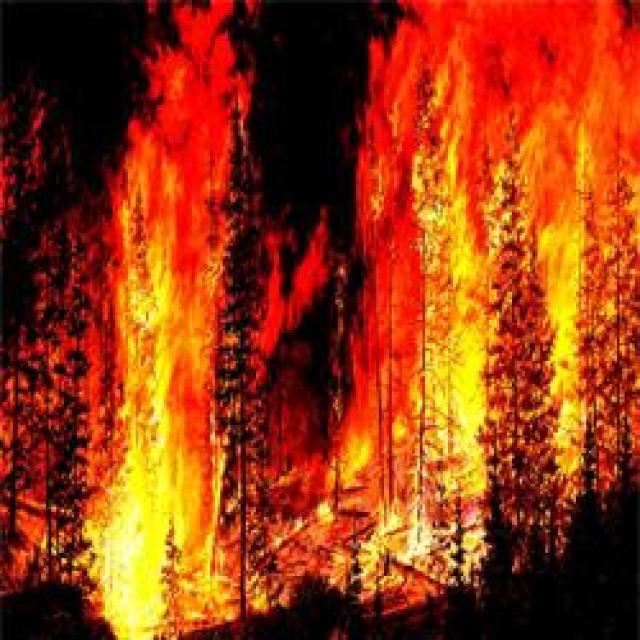fire: (108, 178, 199, 631), (418, 180, 499, 505), (535, 231, 595, 481)
